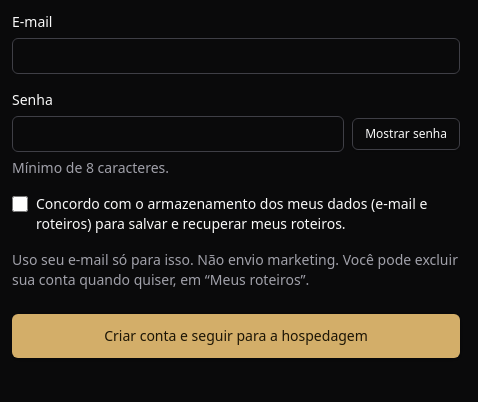
Test: AuthForm (UX-SPEC.md §8.2 T-GATE/T-LOGIN, RF-16, RNF-13) › modo cadastro › e-mail inválido: erro inline conectado ao campo via aria-describedby
The width and height of the screenshot is (478, 402).
In the field labelled "E-mail": coordinates (236, 56) [12,38,460,74], type "nao-e-email"
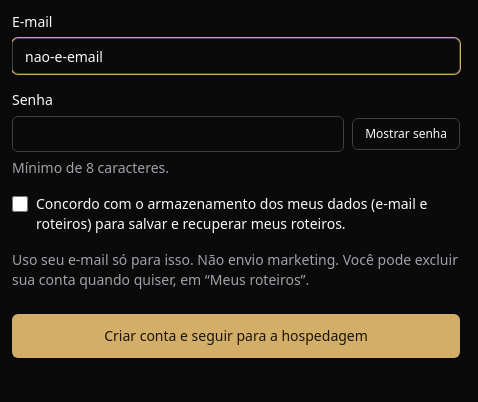
In the password field labelled "Senha": coordinates (178, 134) [12,116,344,152], type "senhaForte123"
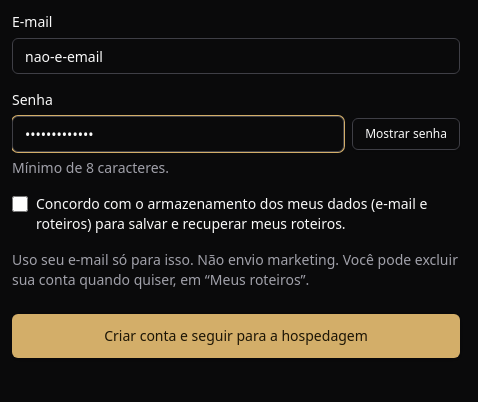
Click the checkbox: coordinates (20, 204) [12,196,28,212]
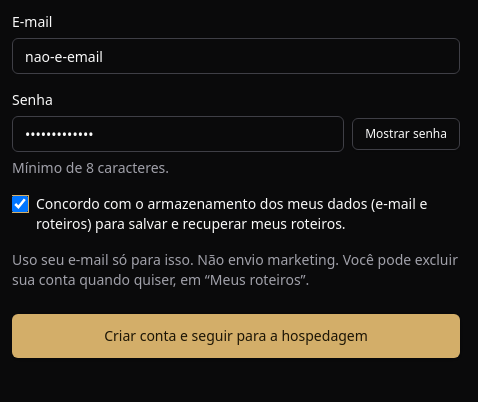
Click the button "Criar conta e seguir para a hospedagem": coordinates (236, 336) [12,314,460,358]
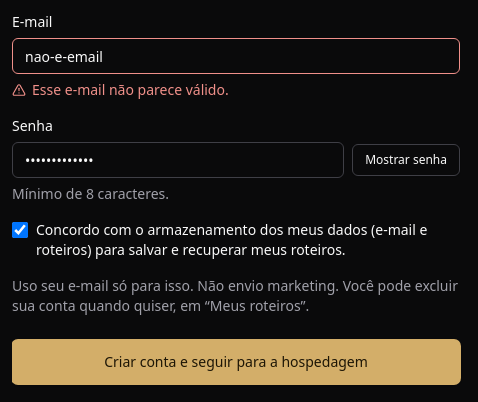
Expected: the message "Esse e-mail não parece válido." is shown, [12,80,229,99]
